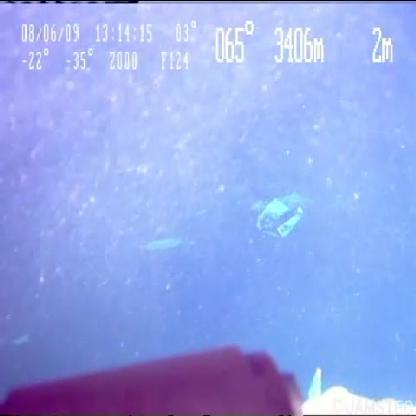Rác: (252, 172, 323, 246)
